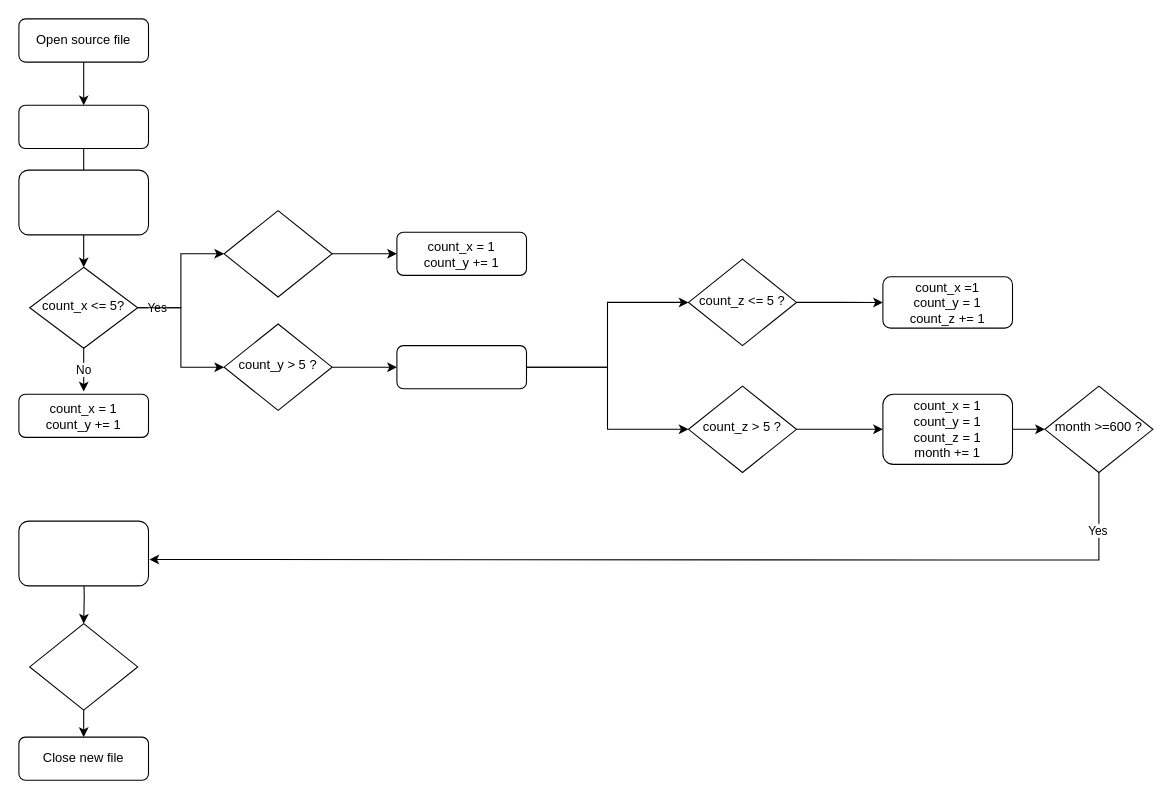
Image size: 1172x799. Some labels were removed from this diagram. The shapes that lost their labels are listed below. From the top down, each one's centre as x and y in pixels, then its label:
At (83,126): "Create New file".
At (83,202): "Init count_x = 1, count_y = 1, count_z = 1 , month = 1, total = 1".
At (277,253): "count_y <= 5 ?".
At (461,367): "count_y = 1 count_z += 1".
At (83,553): "append current line, count_x, count_y, count_z, month to new file".
At (83,666): "End of source file ?".
